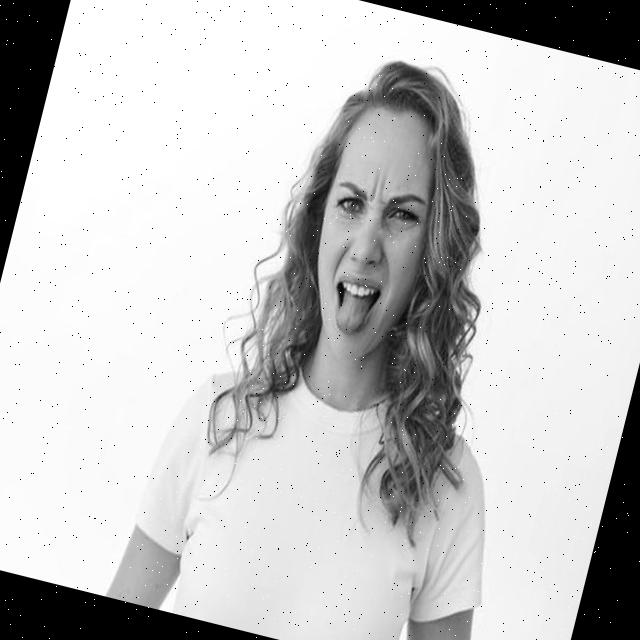Disgust: (290, 92, 462, 372)
